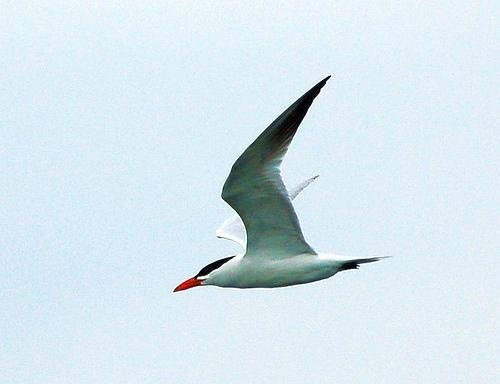bird: (171, 72, 397, 295)
